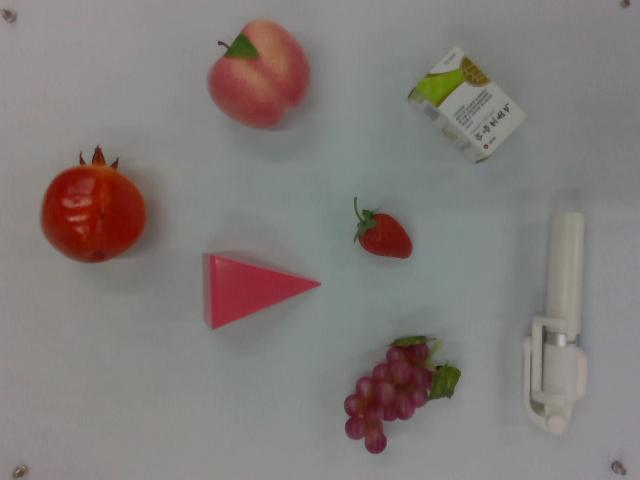carton: (400, 44, 535, 170)
grape: (338, 327, 466, 459)
peach: (202, 15, 313, 135)
pomegranate: (38, 143, 150, 267)
pyramid: (202, 250, 323, 332)
selfiestick: (517, 206, 593, 438)
strawberry: (351, 194, 416, 265)
